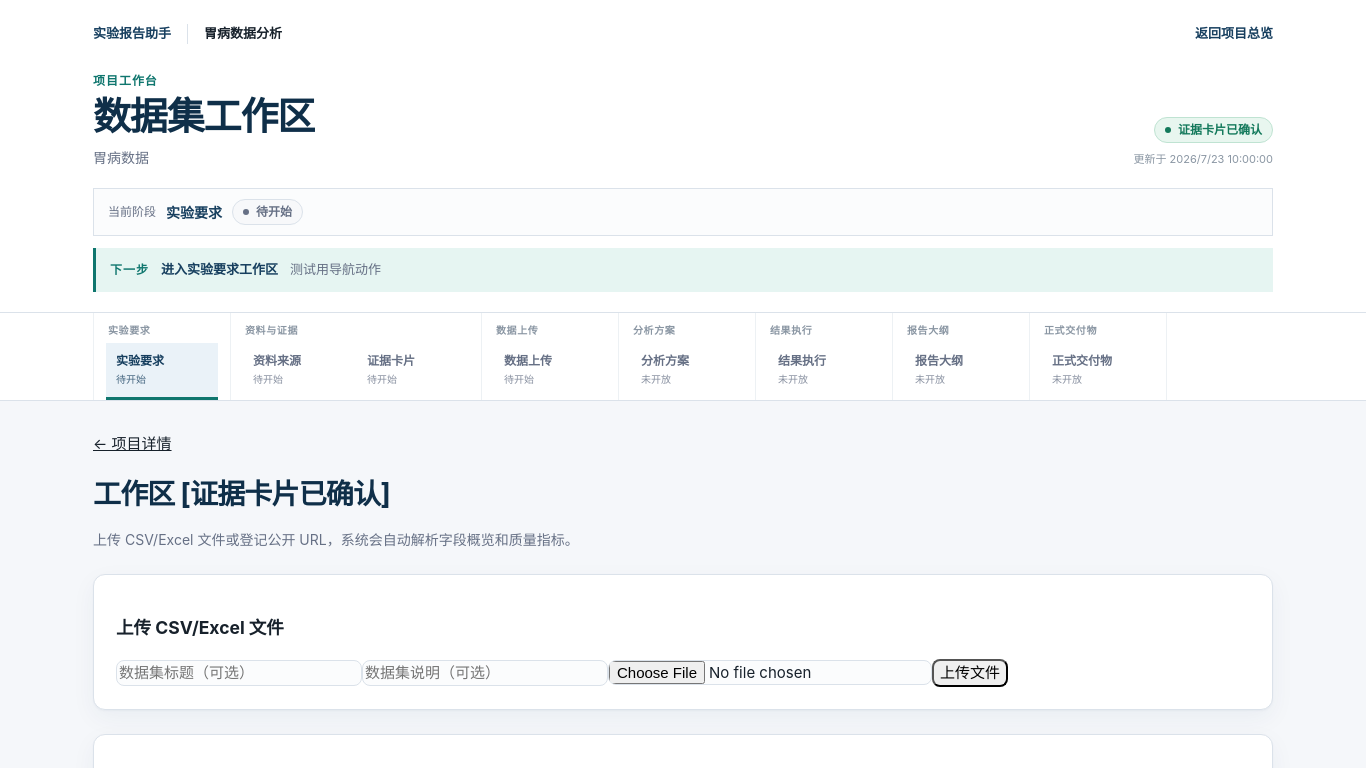
Scenario: DatasetWorkspaceView - 文件上传表单 › 未选择文件点击上传显示校验错误
Click the button "上传文件": [970, 673] box [932, 659, 1008, 687]
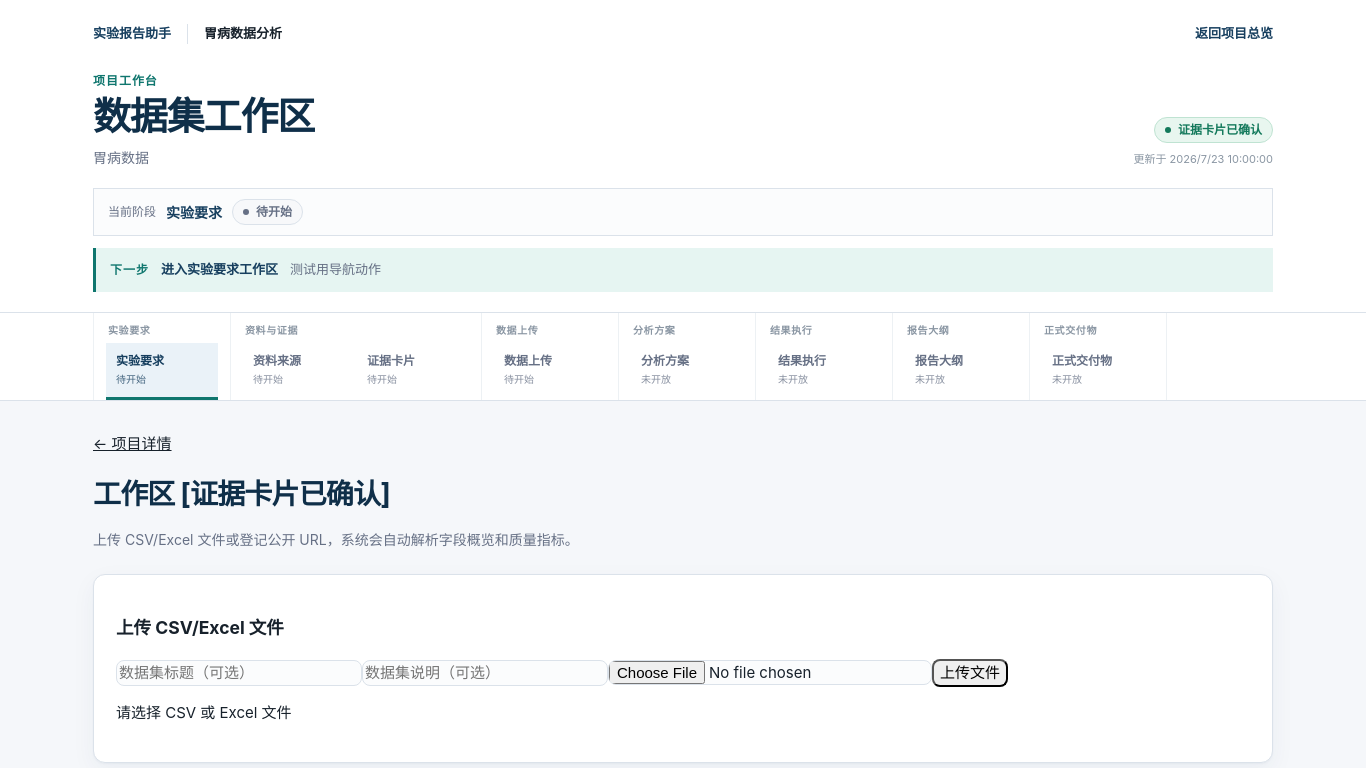
Check: the text "请选择 CSV 或 Excel 文件" is shown, box [116, 703, 292, 722]
